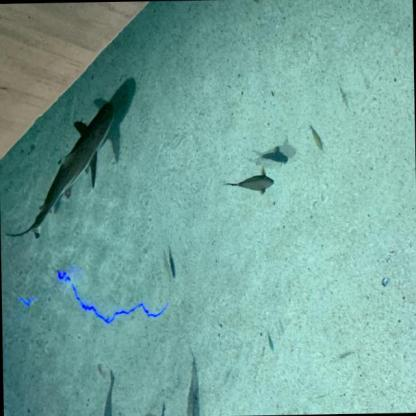fish: (223, 173, 274, 199), (184, 350, 203, 415), (98, 370, 120, 416), (256, 146, 289, 166), (164, 245, 179, 285), (307, 124, 326, 152), (337, 79, 352, 110), (265, 329, 276, 355), (159, 400, 168, 416)
shark: (30, 96, 118, 226)
